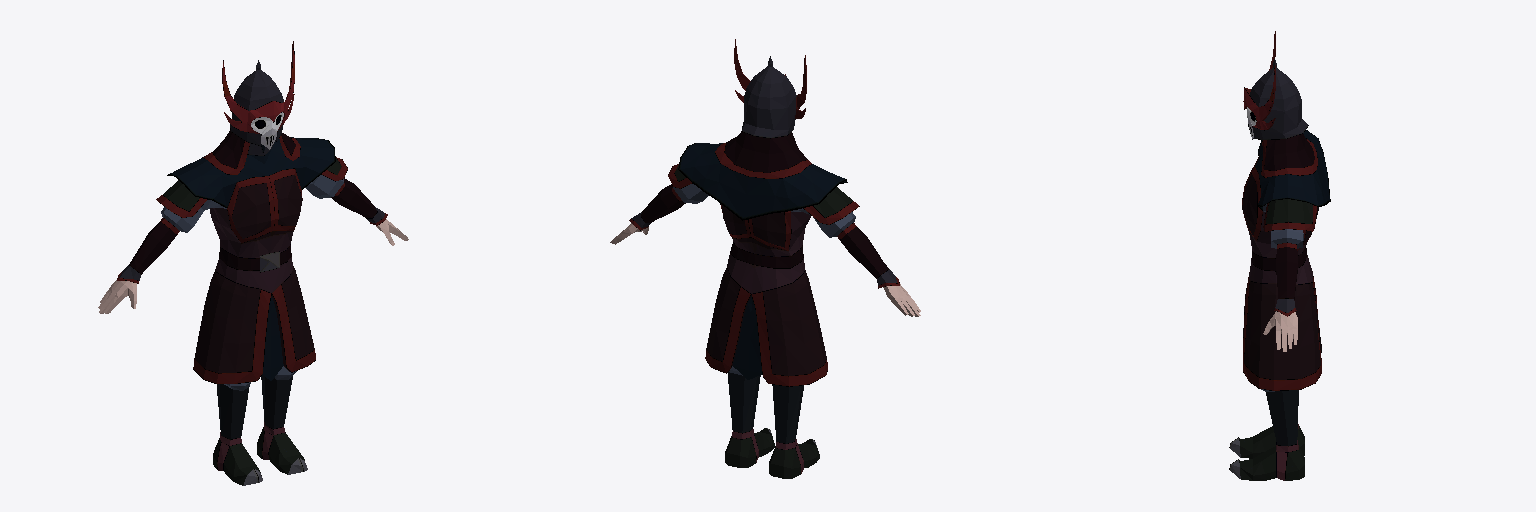
The picture shows the model from 3 angles: view 1: azimuth 30°, elevation 25°; view 2: azimuth 150°, elevation 25°; view 3: azimuth 270°, elevation 25°; orthographic projection.
Parts seen in each view (by area): view 1: Firebender:Mesh; view 2: Firebender:Mesh; view 3: Firebender:Mesh.
Boxes of the visible parts, <box> form: Firebender:Mesh: <box>98,41,408,485</box>; Firebender:Mesh: <box>610,39,920,478</box>; Firebender:Mesh: <box>1229,31,1330,480</box>.
Bounding box in the file's own units: 1.5 × 1.93 × 0.4282.
Materials: 1 (1 with a texture image).